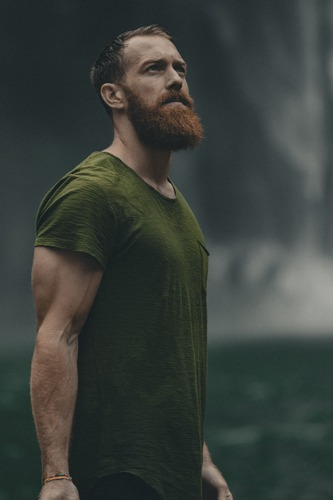without_mask: (126, 50, 192, 141)
